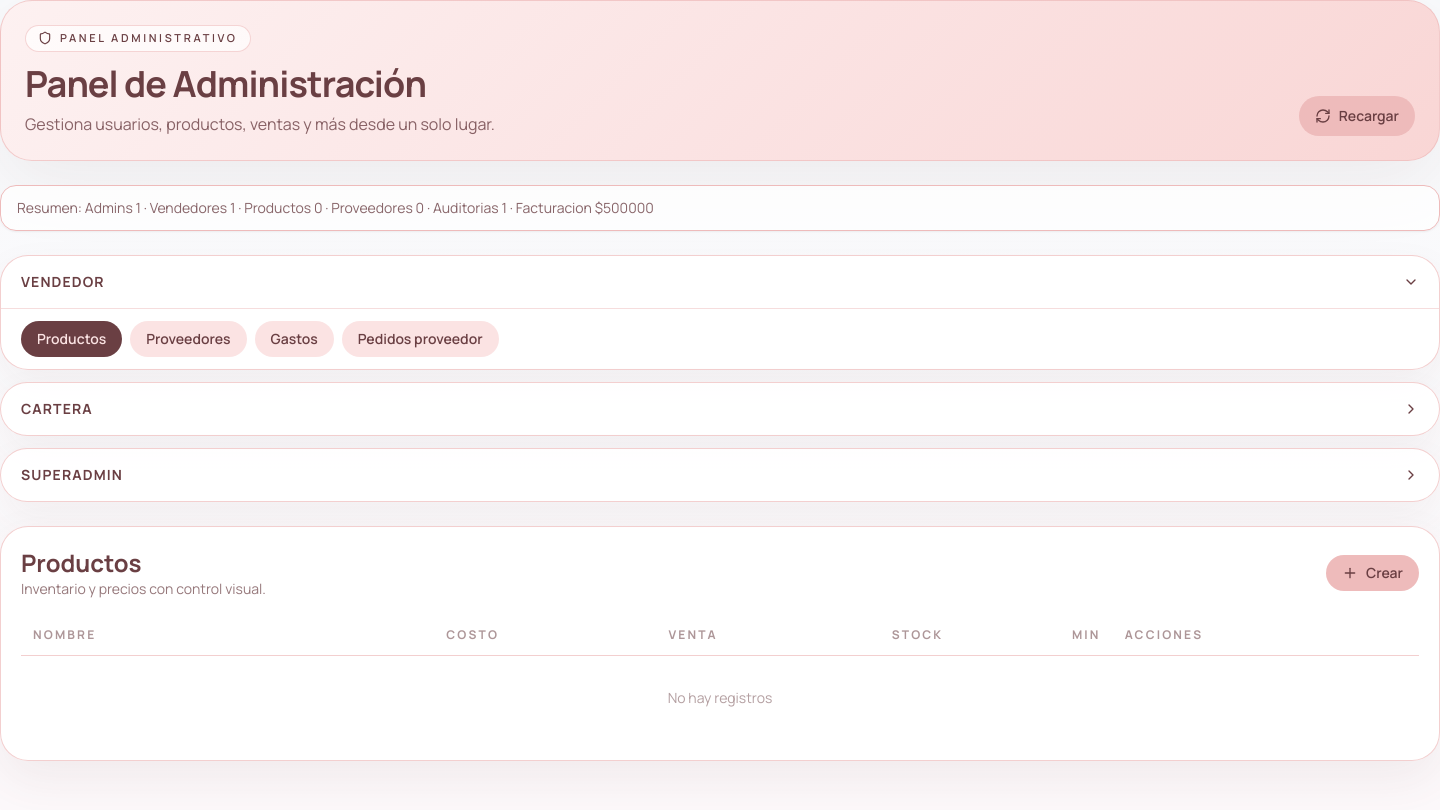
Test: Admin page › toggles role group expansion on header click
Expected: the text "Vendedor" is shown, [21,272,105,292]
Expected: the button "Productos" is shown, [21,320,122,356]
Click the button "Vendedor". click: (63, 281)
box: [1,256,1439,308]
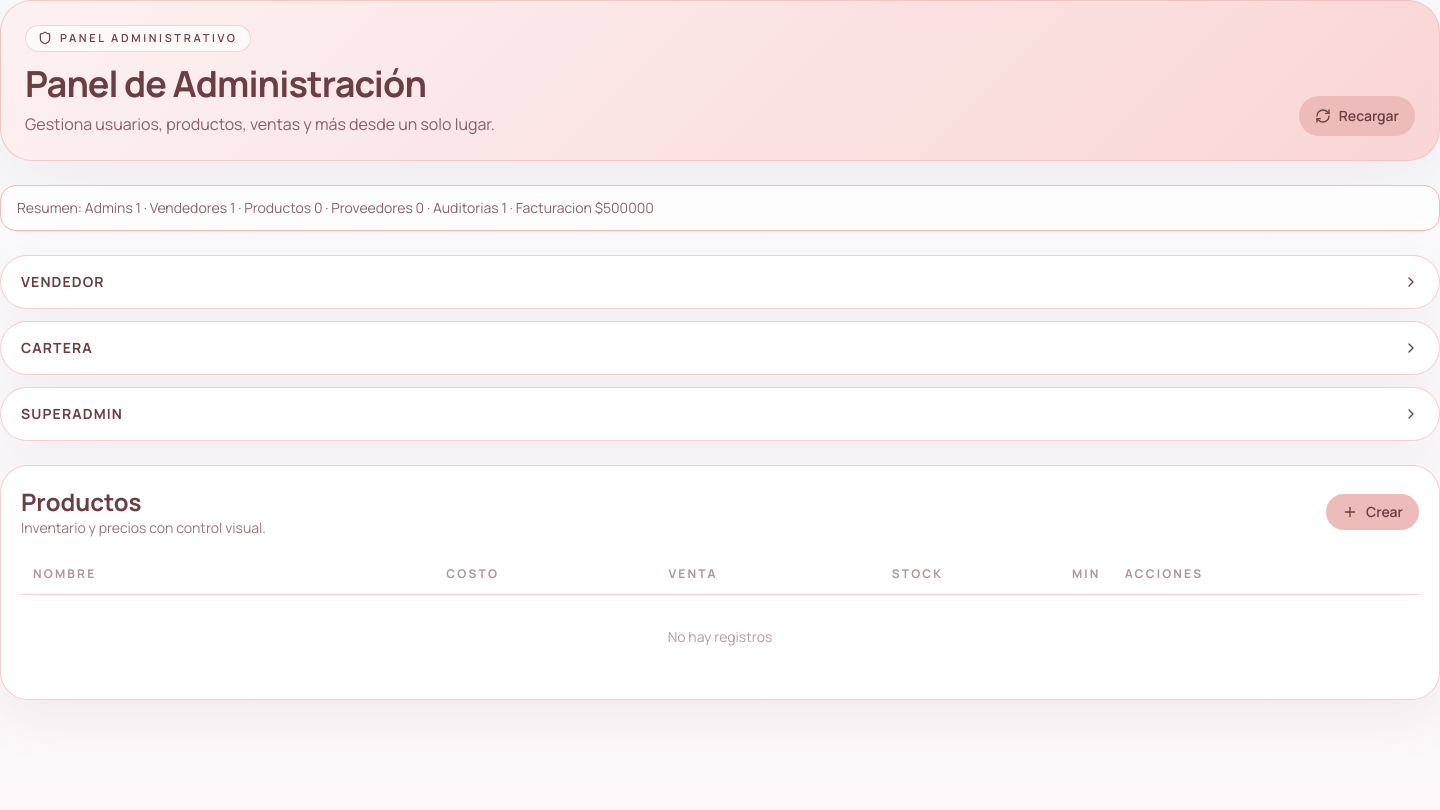
Now the button "Gastos" is gone
